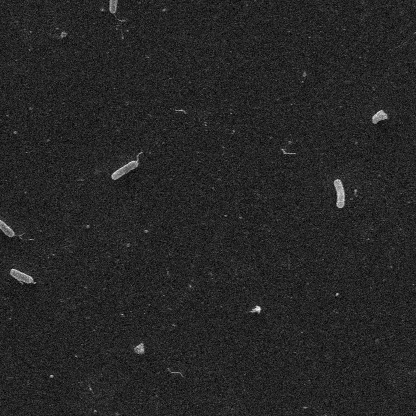regular: (111, 161, 137, 181), (8, 265, 33, 283), (331, 179, 344, 208), (0, 220, 15, 238), (109, 0, 118, 14)
spheroplast: (370, 107, 389, 126)
